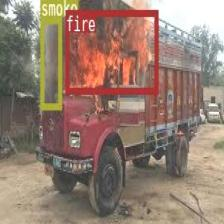fire: (65, 9, 157, 93)
smoke: (40, 16, 61, 108)
